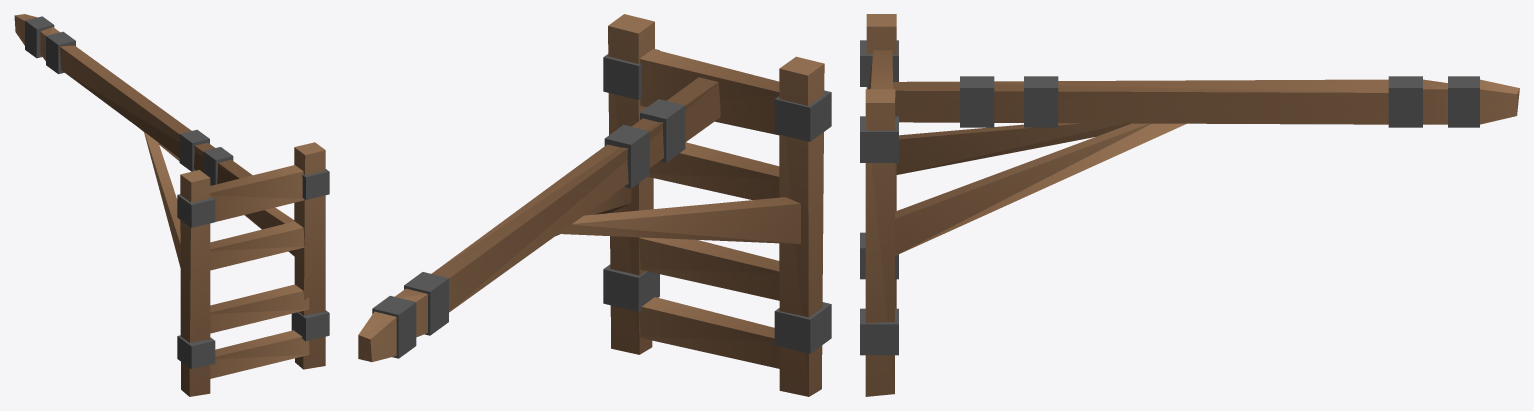
Rendered from ZLP_Build_D_45.FBX.
The picture shows the model from 3 angles, left to right: view 1: azimuth 30°, elevation 25°; view 2: azimuth 150°, elevation 25°; view 3: azimuth 270°, elevation 25°; orthographic projection. The views are drawn at different scales.
Visible parts, largest first — view 1: ZLP_Build_D_45; view 2: ZLP_Build_D_45; view 3: ZLP_Build_D_45.
Boxes of the visible parts, x1=… form: ZLP_Build_D_45: x1=14, y1=14, x2=329, y2=396; ZLP_Build_D_45: x1=358, y1=14, x2=831, y2=396; ZLP_Build_D_45: x1=860, y1=14, x2=1519, y2=396.
Size of the model in its own units: 119 by 178 by 363.
